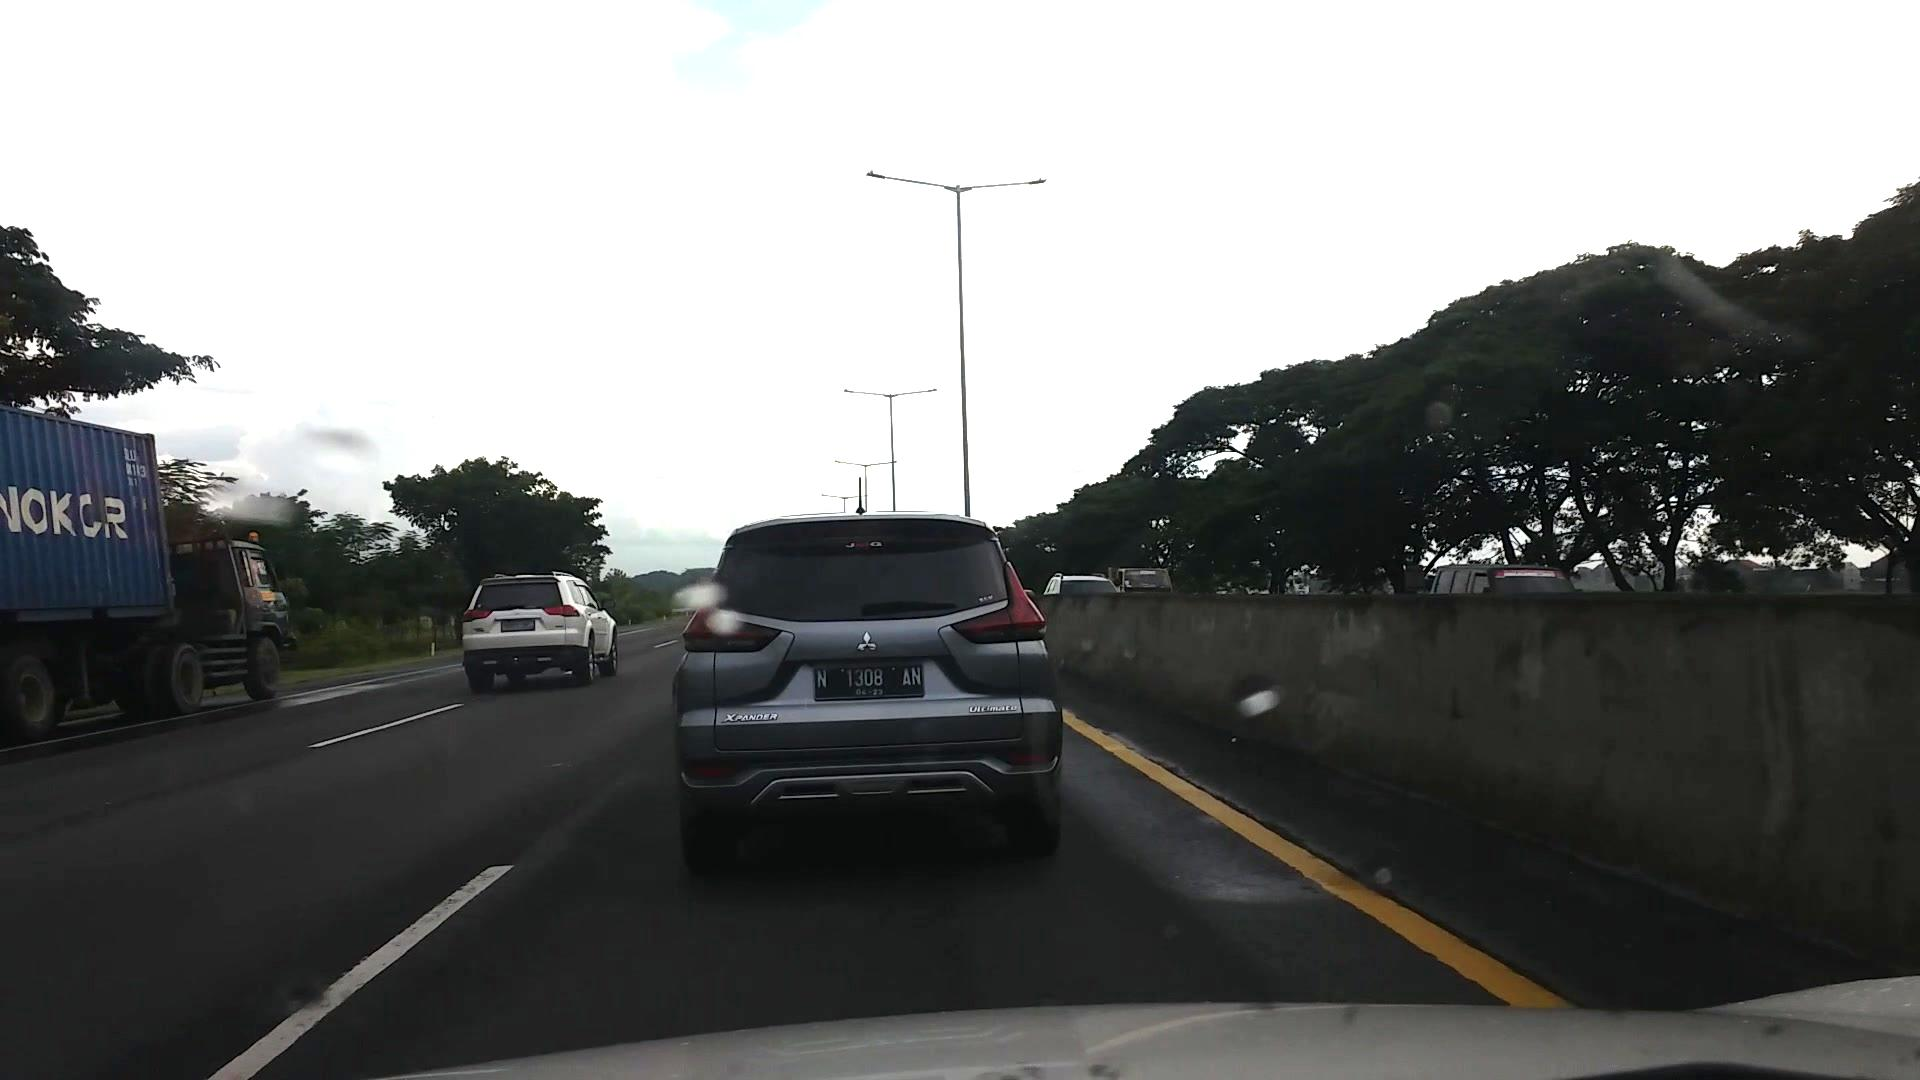plate_positive: (814, 661, 924, 700)
